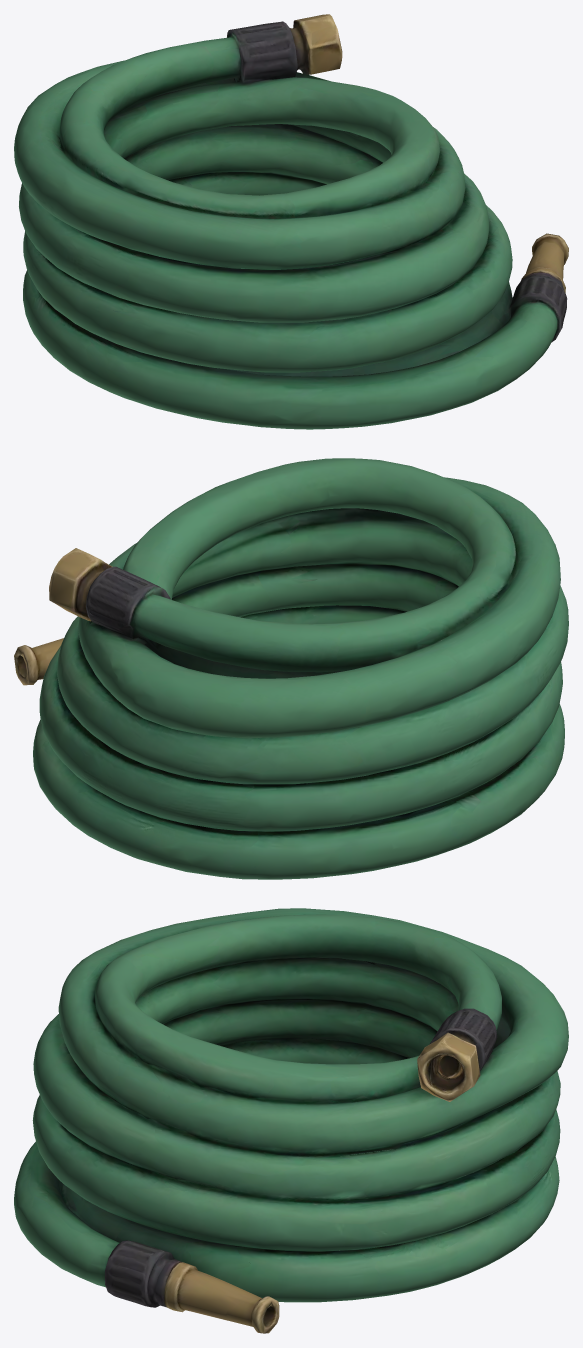
The model's file is manguera.glb.
The picture shows the model from 3 angles, top to bottom: view 1: azimuth 30°, elevation 25°; view 2: azimuth 150°, elevation 25°; view 3: azimuth 270°, elevation 25°; orthographic projection. The views are drawn at different scales.
Parts seen in each view (by area): view 1: tripo_node_41d80eb3-f0a0-4403-9751-188b0e5a8d89; view 2: tripo_node_41d80eb3-f0a0-4403-9751-188b0e5a8d89; view 3: tripo_node_41d80eb3-f0a0-4403-9751-188b0e5a8d89.
Part boxes in pixels (bbox=[...]): tripo_node_41d80eb3-f0a0-4403-9751-188b0e5a8d89: bbox=[14, 14, 568, 429]; tripo_node_41d80eb3-f0a0-4403-9751-188b0e5a8d89: bbox=[14, 458, 568, 879]; tripo_node_41d80eb3-f0a0-4403-9751-188b0e5a8d89: bbox=[14, 908, 568, 1333].
Size of the model in its own units: 1 by 0.4407 by 0.9629.
1 material, 1 textured.
